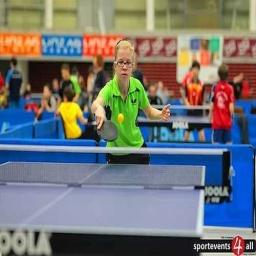orange: (118, 113, 124, 122)
